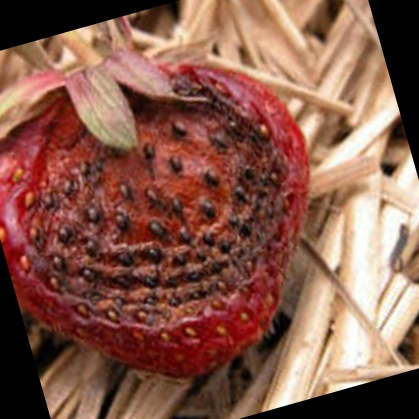Anthracnose_FR: (11, 62, 304, 315)
